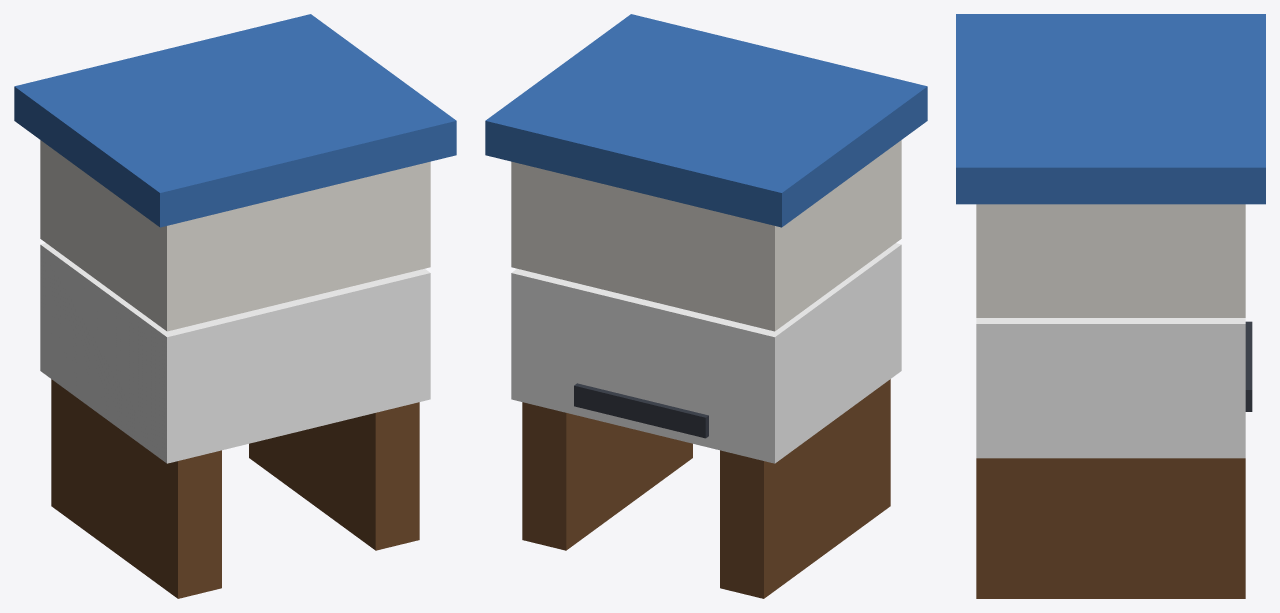
The model's file is colmeia.glb.
3 renders of one model, left to right at view 1: azimuth 30°, elevation 25°; view 2: azimuth 150°, elevation 25°; view 3: azimuth 270°, elevation 25°, orthographic. The views are drawn at different scales.
Parts seen in each view (by area): view 1: corpo; view 2: corpo; view 3: corpo.
Boxes of the visible parts, bbox=[...] form: corpo: bbox=[14, 14, 456, 598]; corpo: bbox=[485, 14, 927, 598]; corpo: bbox=[956, 14, 1265, 598].
Bounding box in the file's own units: 0.27 × 0.365 × 0.23.
